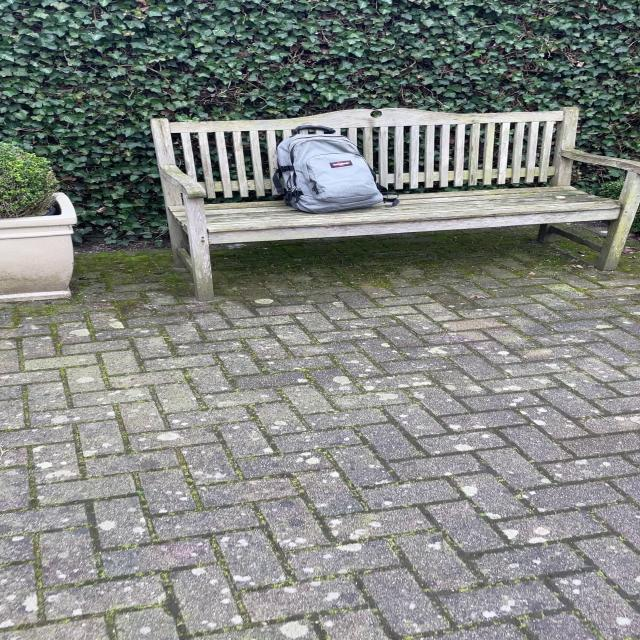backpack: (267, 123, 388, 215)
